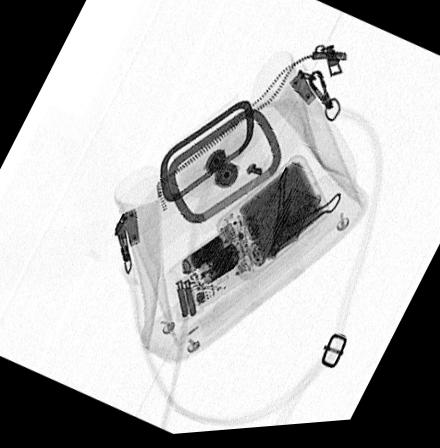Powerbank: (215, 160, 331, 284)
